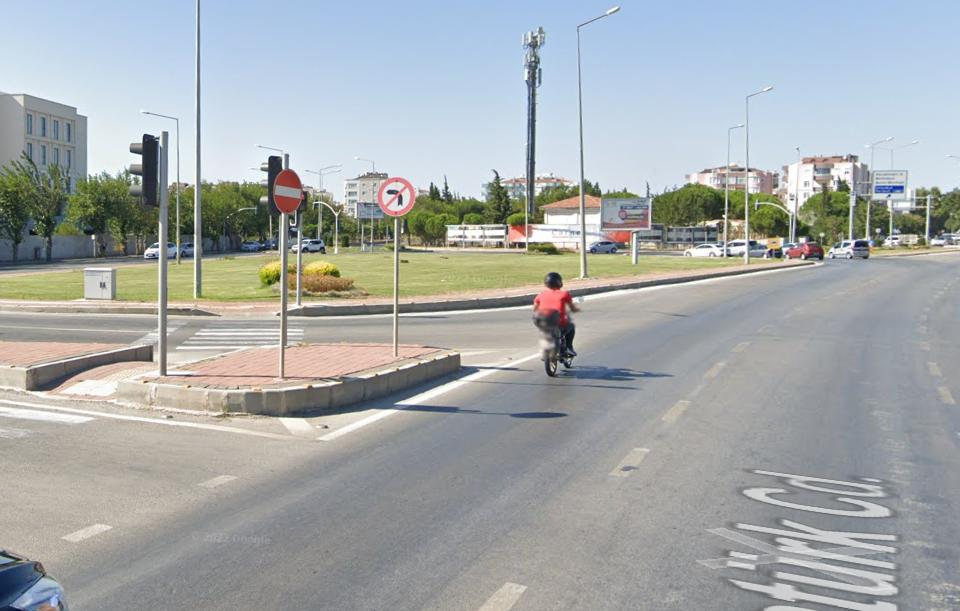leftturnsareforbidden: (378, 175, 416, 216)
